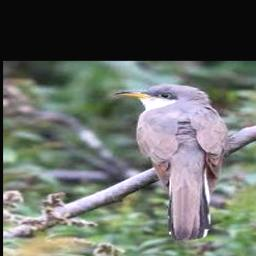Cuckoo: (115, 83, 229, 240)
